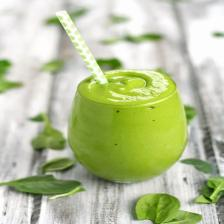green: (68, 70, 187, 182), (135, 194, 202, 224), (0, 175, 81, 194), (29, 113, 66, 150), (195, 177, 224, 203), (41, 158, 75, 172), (181, 159, 212, 173)
